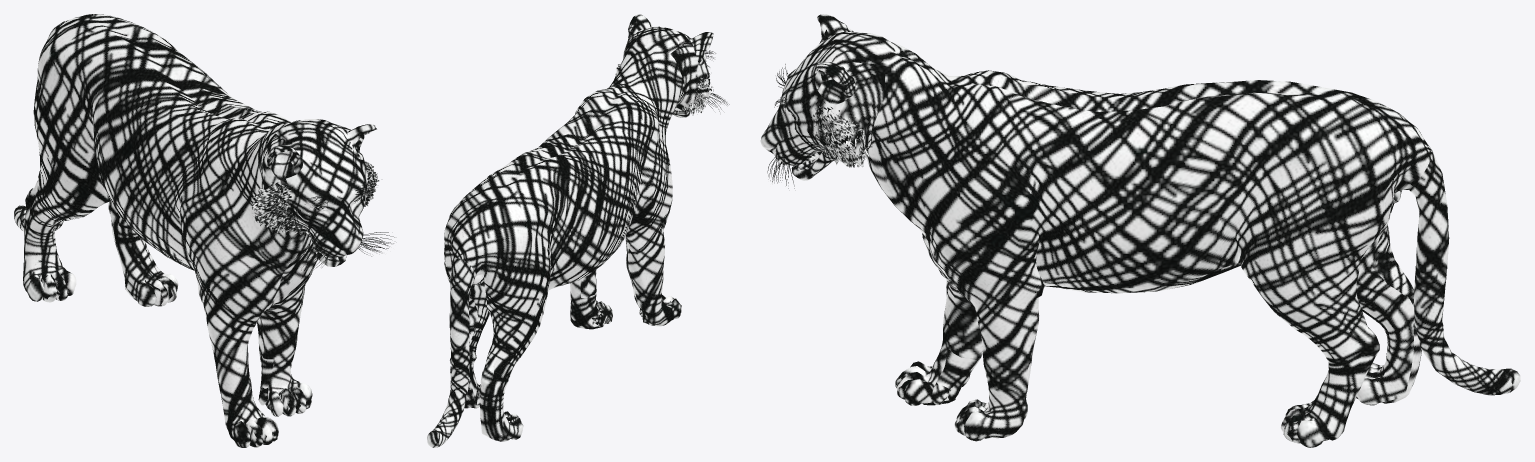
The model's file is V9_DrawnTigerRigged.glb.
3 views of the same model, side by side, from view 1: azimuth 30°, elevation 25°; view 2: azimuth 150°, elevation 25°; view 3: azimuth 270°, elevation 25° (orthographic). The views are drawn at different scales.
Parts seen in each view (by area): view 1: White Tiger Body; view 2: White Tiger Body; view 3: White Tiger Body.
Boxes of the visible parts, bbox=[...] form: White Tiger Body: bbox=[14, 14, 394, 447]; White Tiger Body: bbox=[427, 14, 729, 447]; White Tiger Body: bbox=[760, 14, 1520, 447].
Bounding box in the file's own units: 45 × 115 × 209.
1 material, 1 textured.
